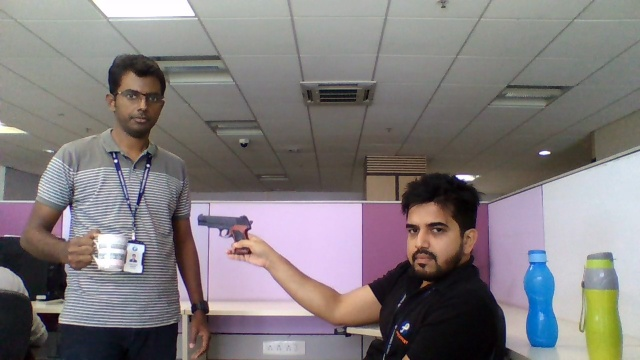gun: (195, 211, 252, 237)
